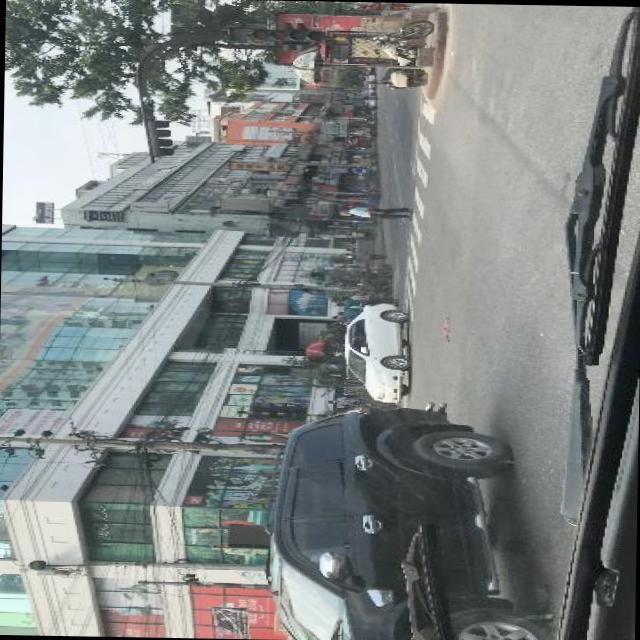car: (279, 400, 546, 640), (342, 302, 412, 402), (362, 98, 374, 105)
motorcycle: (372, 18, 430, 89), (364, 151, 376, 156)
